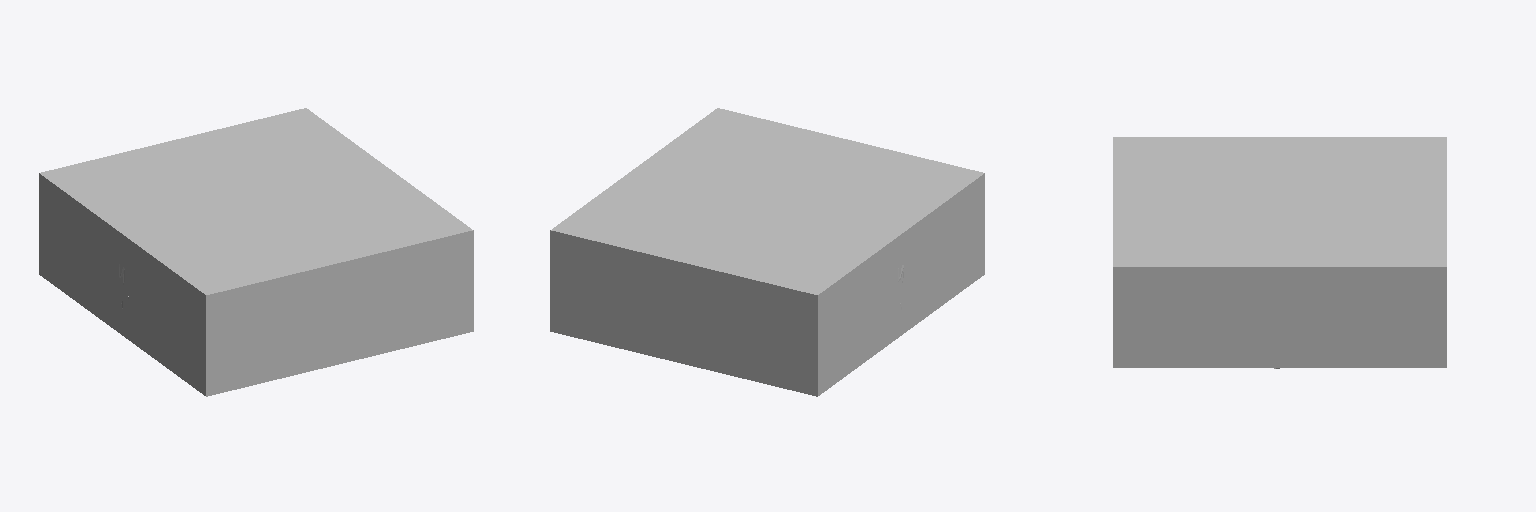
File: objeto_3d.obj
The picture shows the model from 3 angles: view 1: azimuth 30°, elevation 25°; view 2: azimuth 150°, elevation 25°; view 3: azimuth 270°, elevation 25°; orthographic projection.
Parts seen in each view (by area): view 1: Collider; view 2: Collider; view 3: Collider.
Part boxes in pixels (x1,y1,x2,y2): Collider: (39,108,473,396); Collider: (550,108,984,396); Collider: (1113,137,1446,367).
Size of the model in its own units: 3.96 by 1.53 by 4.28.